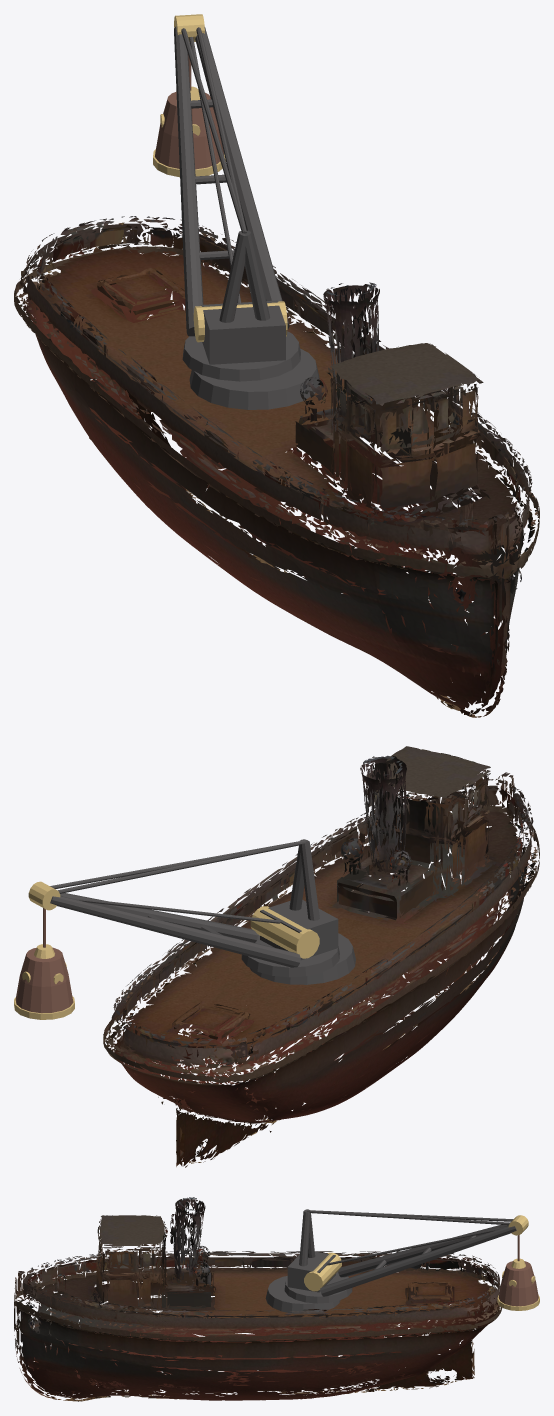
File: salvage_tender.glb
The picture shows the model from 3 angles, top to bottom: view 1: azimuth 30°, elevation 25°; view 2: azimuth 150°, elevation 25°; view 3: azimuth 270°, elevation 25°; orthographic projection. The views are drawn at different scales.
Parts seen in each view (by area): view 1: HullBody, PART_crane, PART_bell; view 2: HullBody, PART_crane, PART_bell; view 3: HullBody, PART_crane, PART_bell.
Part boxes in pixels (x1,y1,x2,y2): HullBody: (14,216,539,717); PART_crane: (174,14,300,381); PART_bell: (153,54,225,177); HullBody: (103,746,539,1167); PART_crane: (28,839,339,977); PART_bell: (14,908,74,1019); HullBody: (14,1197,502,1401); PART_crane: (284,1209,528,1303); PART_bell: (497,1235,539,1310).
Size of the model in its own units: 11.27 by 14.65 by 32.25.
6 materials, 1 textured.
